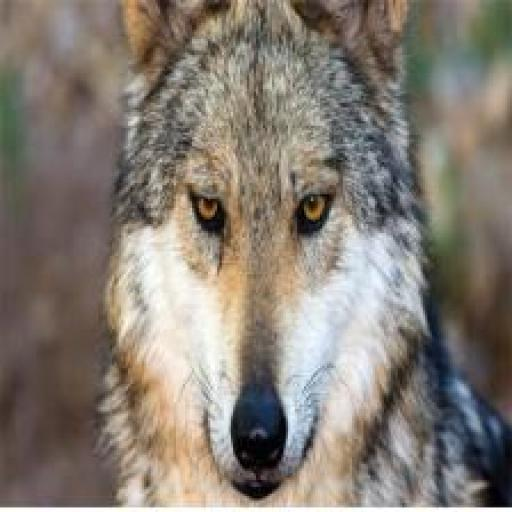wolf: (105, 0, 511, 512)
